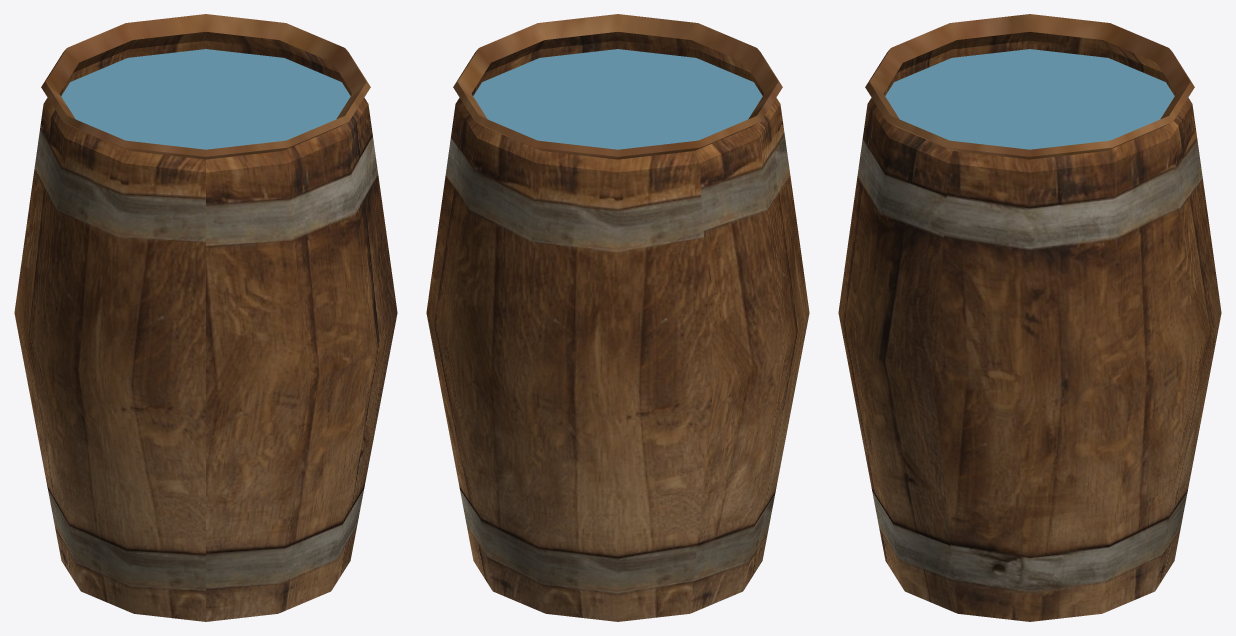
File: Barril dAgua.fbx
3 views of the same model, side by side, from view 1: azimuth 30°, elevation 25°; view 2: azimuth 150°, elevation 25°; view 3: azimuth 270°, elevation 25° (orthographic).
Parts seen in each view (by area): view 1: Tambor, Agua; view 2: Tambor, Agua; view 3: Tambor, Agua.
Boxes of the visible parts, box(x1,y1,x2,y2) form: Tambor: box(14, 14, 397, 621); Agua: box(61, 49, 350, 149); Tambor: box(426, 14, 809, 621); Agua: box(473, 49, 762, 149); Tambor: box(838, 14, 1221, 621); Agua: box(885, 49, 1174, 149).
Size of the model in its own units: 52.15 by 71.95 by 52.15.
2 materials, 1 textured.
